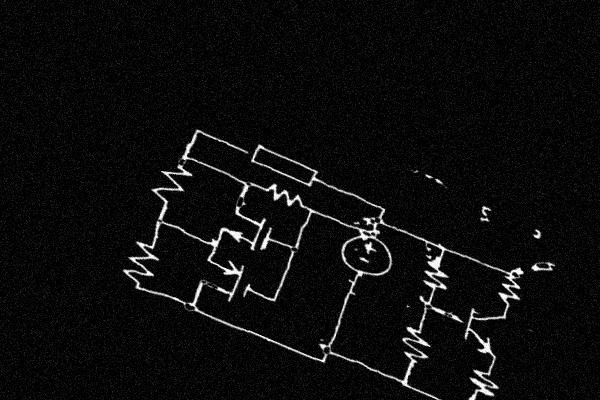resistor: (144, 146, 198, 221), (116, 226, 168, 296), (394, 316, 439, 375), (256, 174, 311, 219), (415, 247, 457, 302), (461, 355, 507, 400), (492, 270, 528, 318)
voltage: (332, 224, 399, 296)
